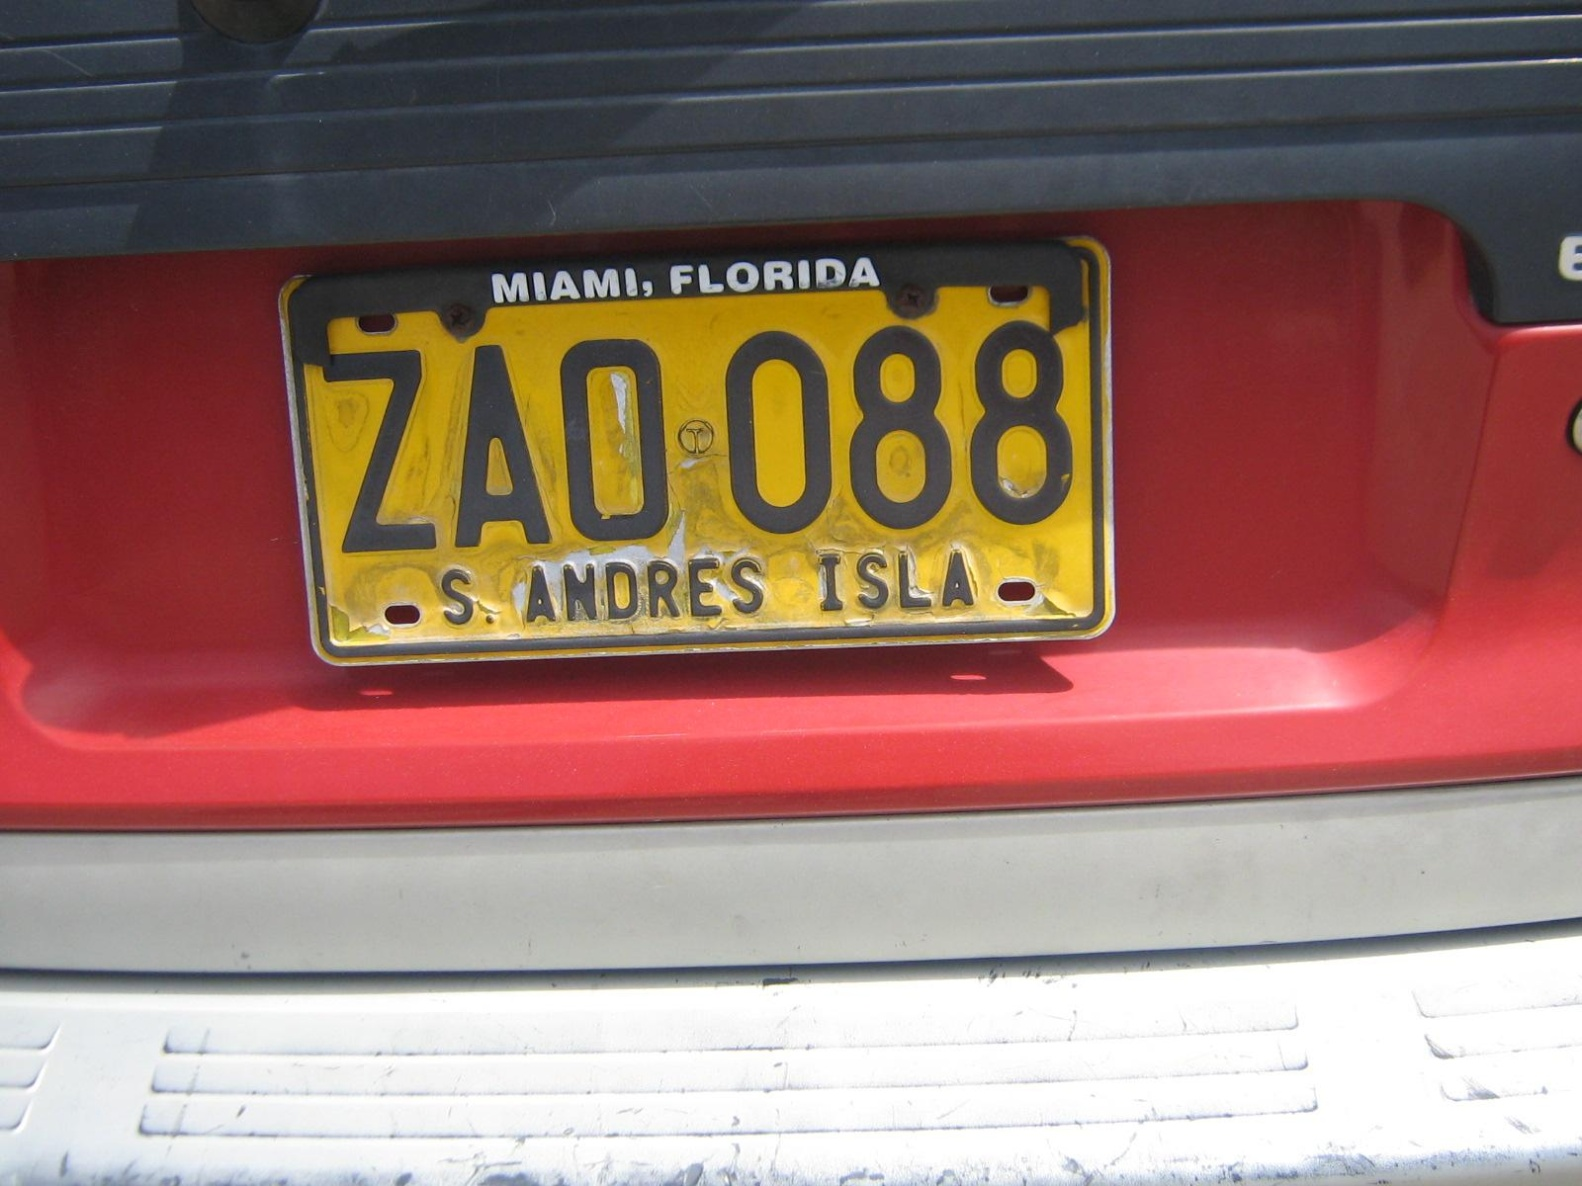placas: (260, 235, 1135, 678)
